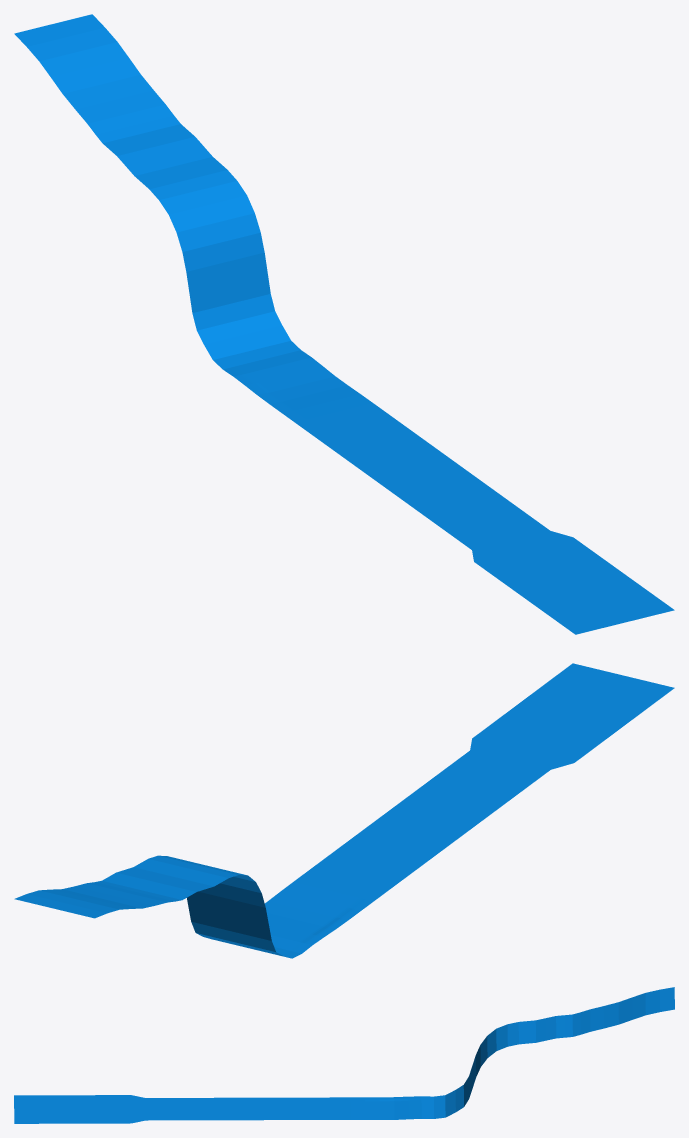
Rendered from River.fbx.
The picture shows the model from 3 angles, top to bottom: view 1: azimuth 30°, elevation 25°; view 2: azimuth 150°, elevation 25°; view 3: azimuth 270°, elevation 25°; orthographic projection. The views are drawn at different scales.
Visible parts, largest first — view 1: polySurface202; view 2: polySurface202; view 3: polySurface202.
Boxes of the visible parts, box(x1,y1,x2,y2) form: polySurface202: box(14, 14, 674, 634); polySurface202: box(14, 663, 674, 958); polySurface202: box(14, 987, 674, 1123).
Size of the model in its own units: 17.28 by 30.56 by 167.
